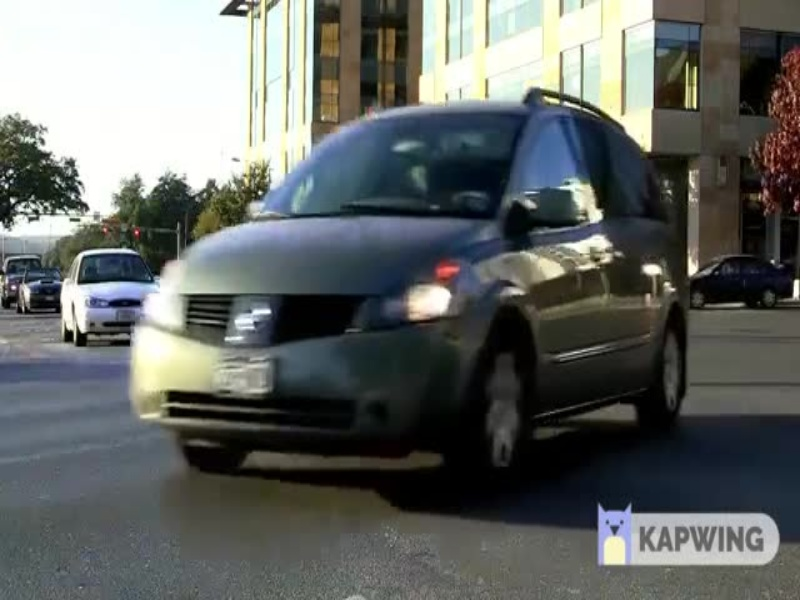van: (128, 96, 699, 492)
